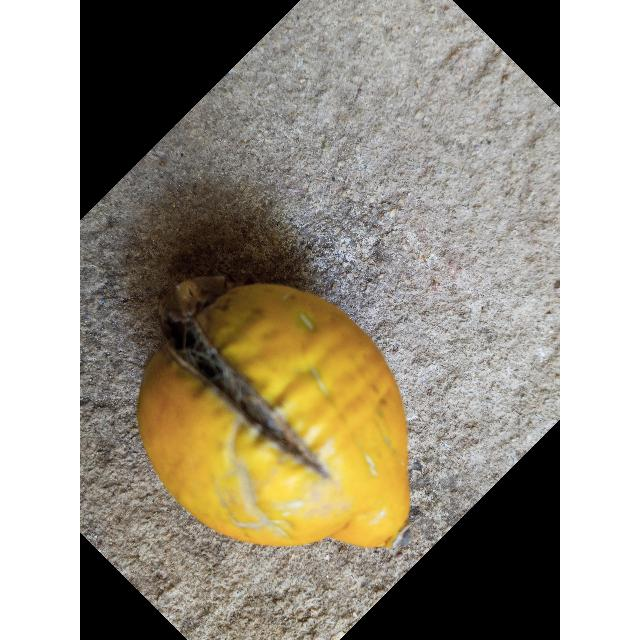damaged: (137, 276, 410, 548)
